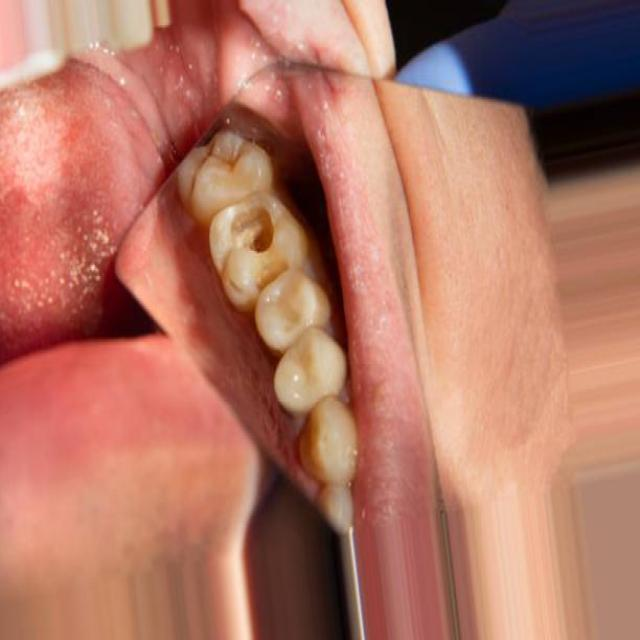caries: (216, 194, 288, 295)
